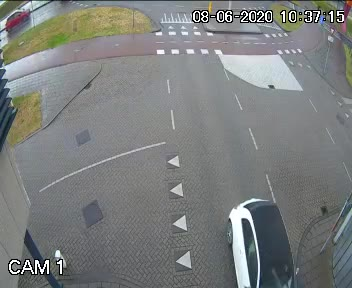car: (213, 188, 304, 288)
